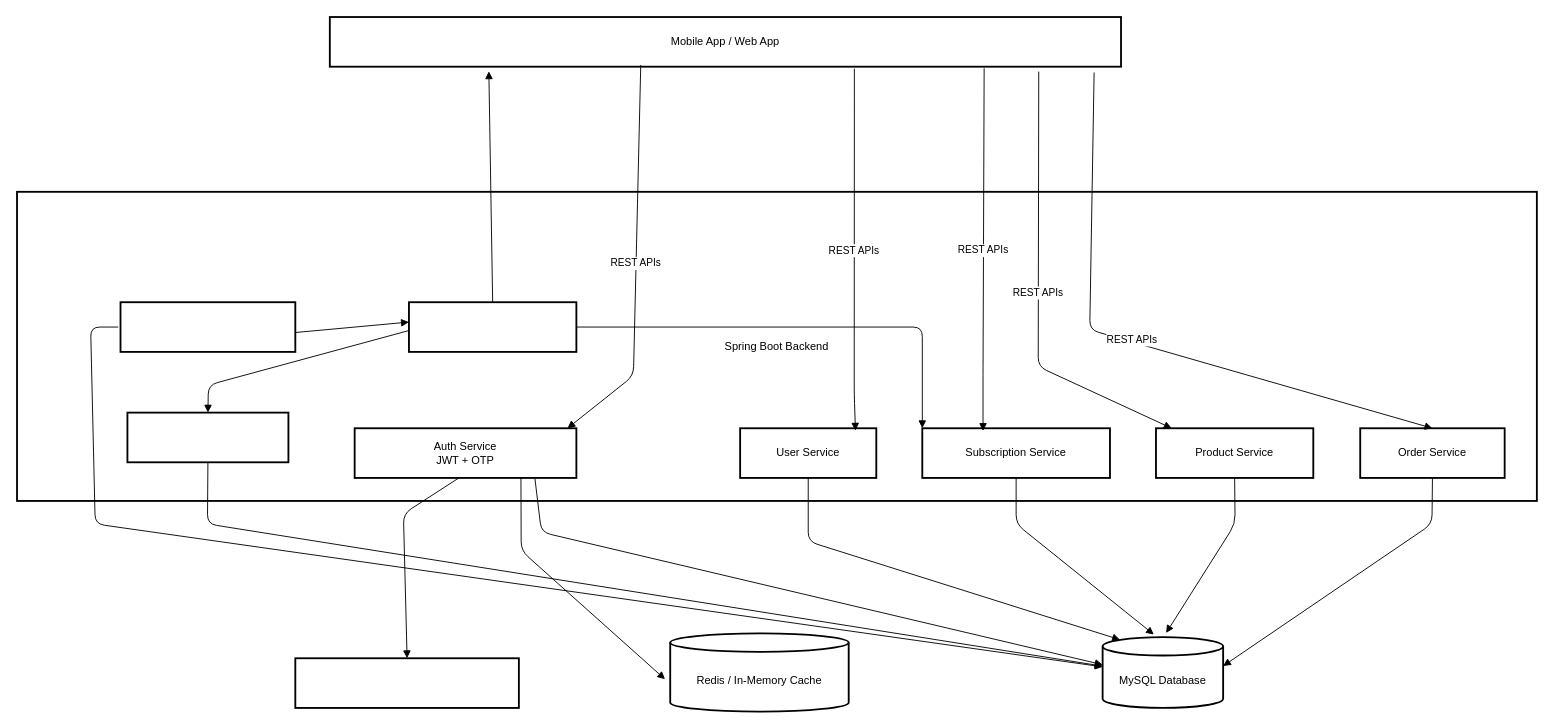
The diagram is 1553 pixels wide and 728 high, and some of its shapes have lost their labels. Here are the shapes that lost their labels. From the top down, the box of each, then its label:
(119, 301, 296, 352): Admin & Analytics
(408, 301, 577, 352): Cron / Scheduler
(126, 411, 289, 463): Delivery Service
(294, 657, 519, 708): SMS / WhatsApp Gateway
